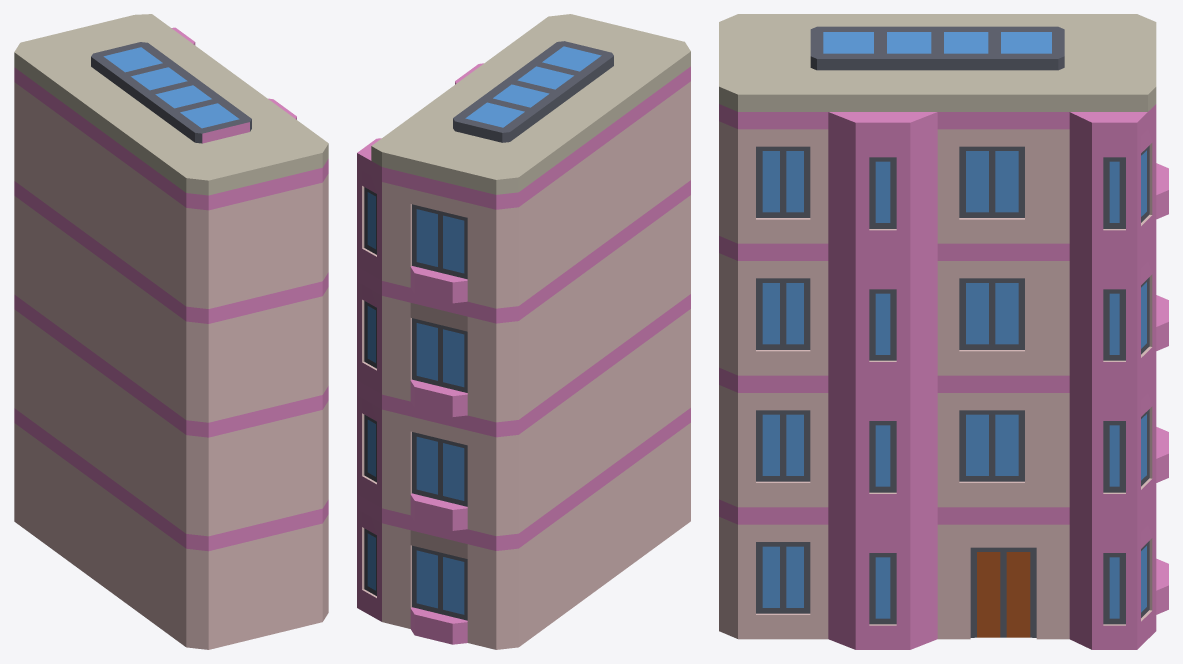
The picture shows the model from 3 angles, left to right: view 1: azimuth 30°, elevation 25°; view 2: azimuth 150°, elevation 25°; view 3: azimuth 270°, elevation 25°; orthographic projection. The views are drawn at different scales.
Parts seen in each view (by area): view 1: predio 5.003; view 2: predio 5.003; view 3: predio 5.003.
Boxes of the visible parts, left/top/right/bottom form: predio 5.003: left=14, top=14, right=328, bottom=649; predio 5.003: left=357, top=14, right=690, bottom=649; predio 5.003: left=719, top=14, right=1168, bottom=649.
Bounding box in the file's own units: 3400 × 9643 × 7071.
